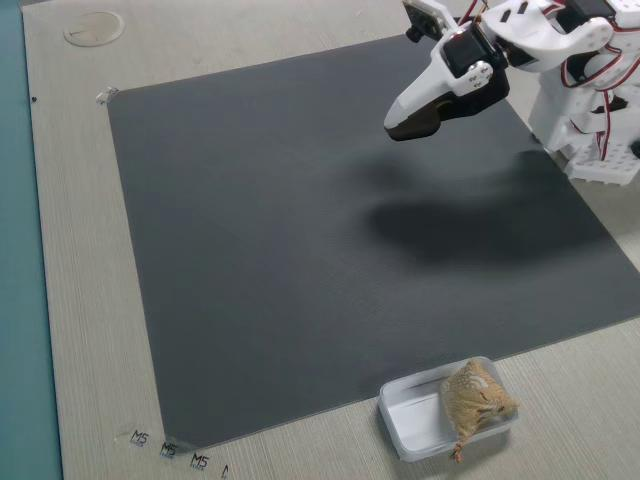gripper: (360, 27, 510, 157)
